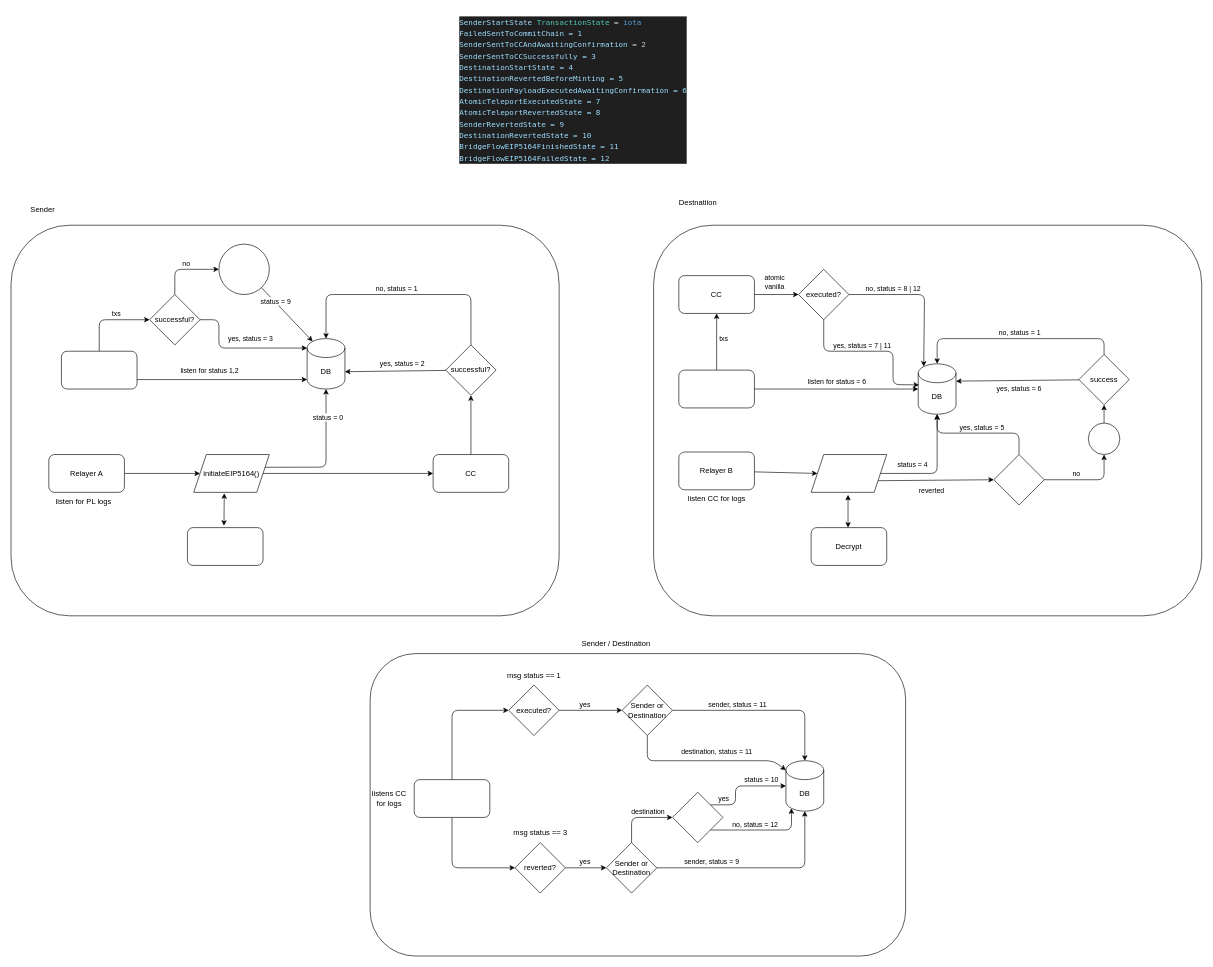
This 1213x967 diagram has some shape labels left out. Here are the shapes that lost their labels. From the top down, the centre of each, then its label:
[243,269]: Revert
[99,370]: Atomic Service - Early Revert
[716,388]: Atomic Service - Destination
[1104,438]: execute tо PL
[848,473]: finishEP5164()
[1018,479]: before mining?
[225,546]: Encrypt
[452,798]: Atomic Service - Executor
[697,817]: status == 6
